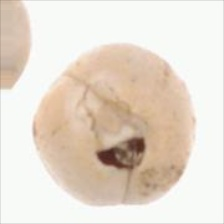L3: (93, 102, 151, 169)
L4: (32, 43, 196, 207)
